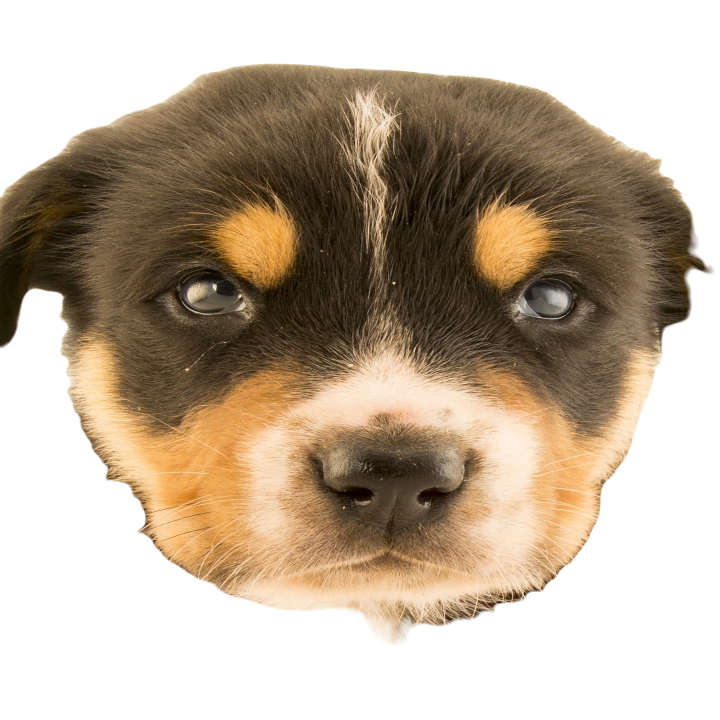Dog: (0, 60, 695, 644)
